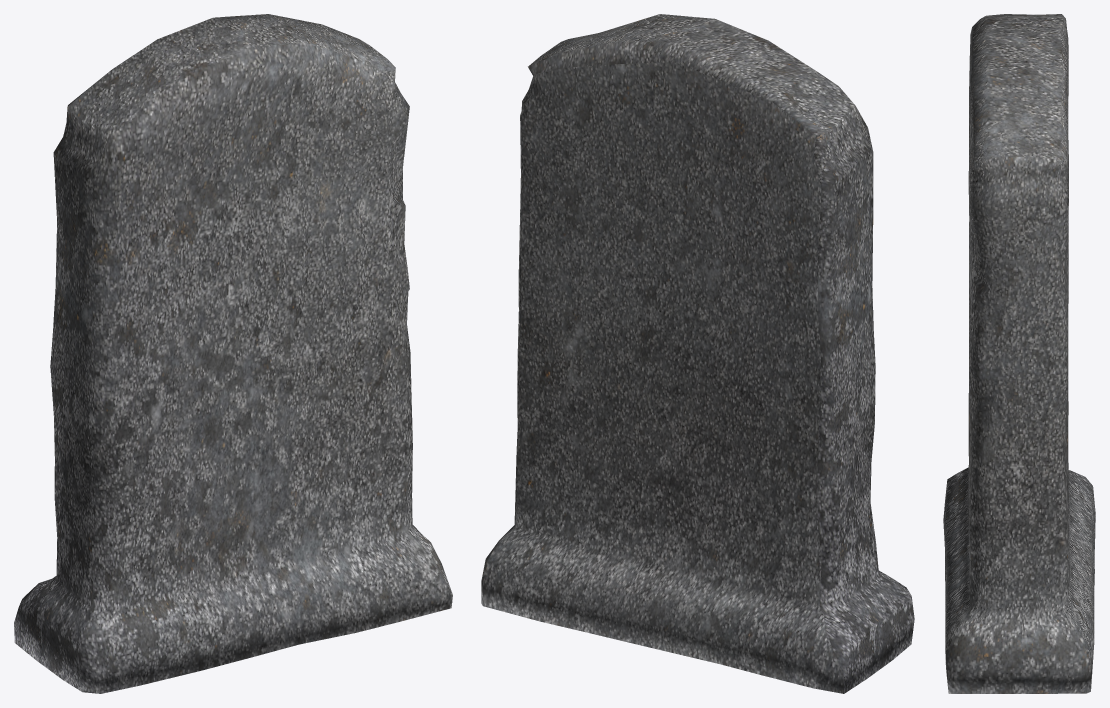
File: tombstone.obj
3 renders of one model, left to right at view 1: azimuth 30°, elevation 25°; view 2: azimuth 150°, elevation 25°; view 3: azimuth 270°, elevation 25°, orthographic. The views are drawn at different scales.
Visible parts, largest first — view 1: tombstone_1; view 2: tombstone_1; view 3: tombstone_1.
Part boxes in pixels (bbox=[...]): tombstone_1: bbox=[14, 14, 452, 693]; tombstone_1: bbox=[481, 14, 914, 693]; tombstone_1: bbox=[943, 14, 1095, 693].
Bounding box in the file's own units: 51.74 × 79.73 × 19.05.
1 material, 1 textured.
